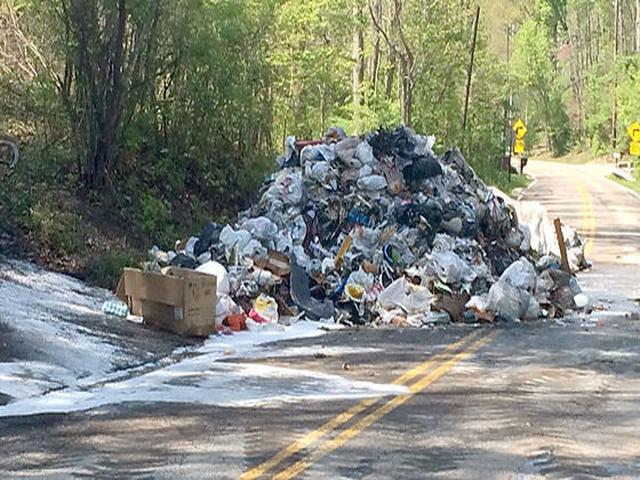garbage: (289, 167, 484, 304)
